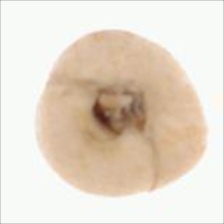L3: (87, 81, 151, 142)
L4: (33, 29, 207, 197)
